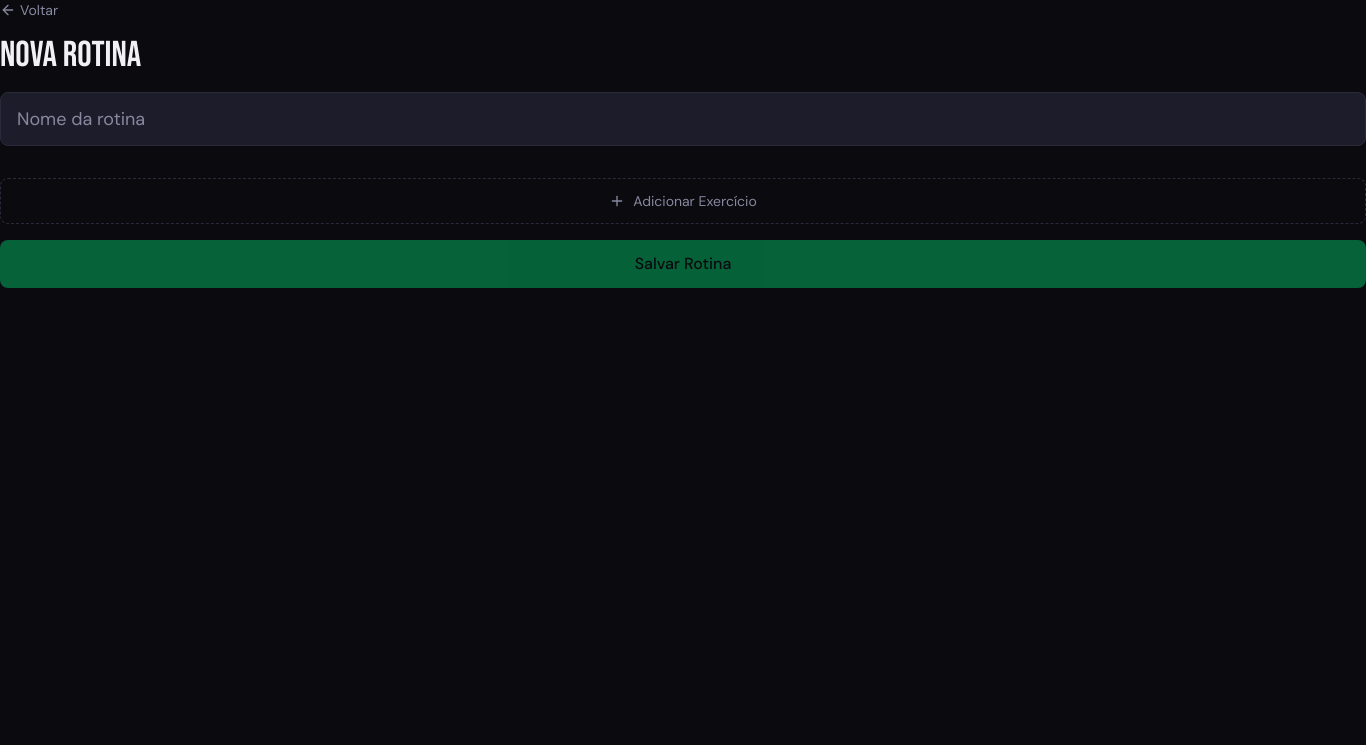
Test: RoutineEditor › opens exercise picker when add button is clicked
Click the button "Adicionar Exercício" at (683, 201), box left=0, top=178, right=1365, bottom=224
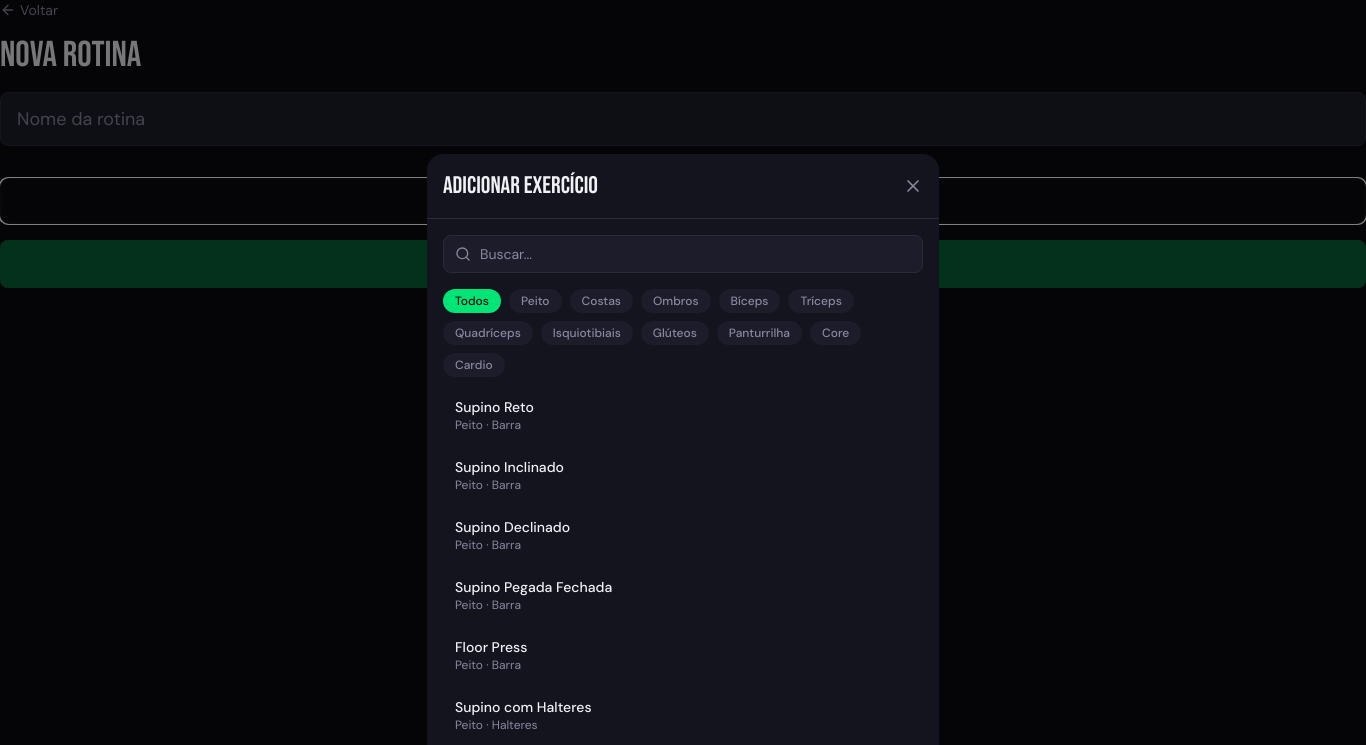
Result: the text "Supino Reto" is shown at left=455, top=397, right=534, bottom=417
